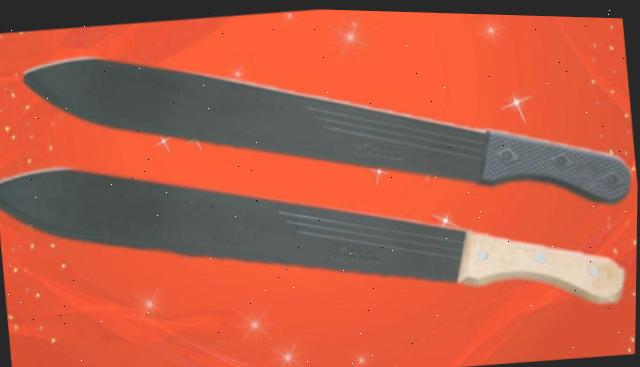long knife: (0, 110, 630, 367)
